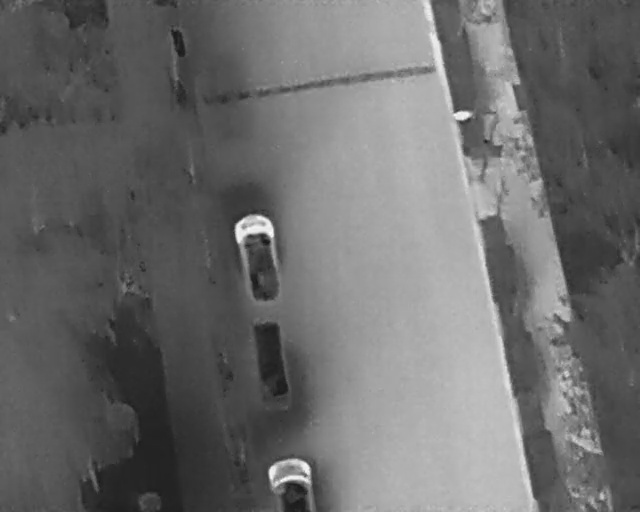Car: (230, 209, 286, 307), (247, 316, 293, 402), (267, 456, 316, 510)
